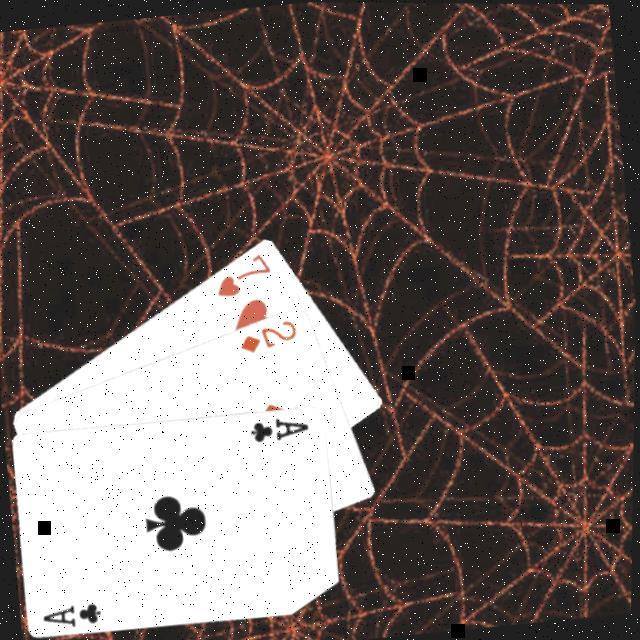2D: (234, 313, 301, 355)
7H: (210, 247, 278, 300)
AC: (246, 410, 314, 444), (40, 596, 107, 630)
